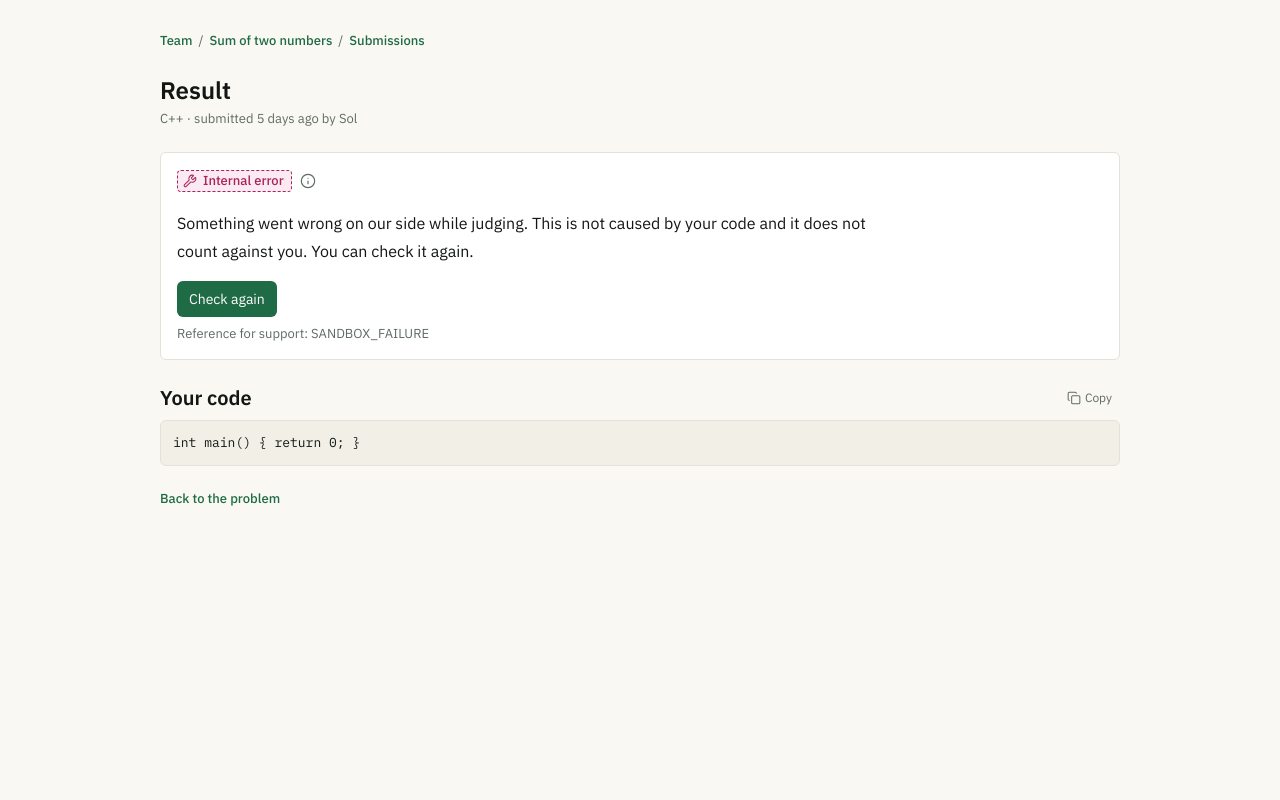
Test: the result of a submission (GRD-49) › a system error › shows why when checking again fails
The width and height of the screenshot is (1280, 800).
Click the button "Check again" at (227, 299), box [177,281,277,317]
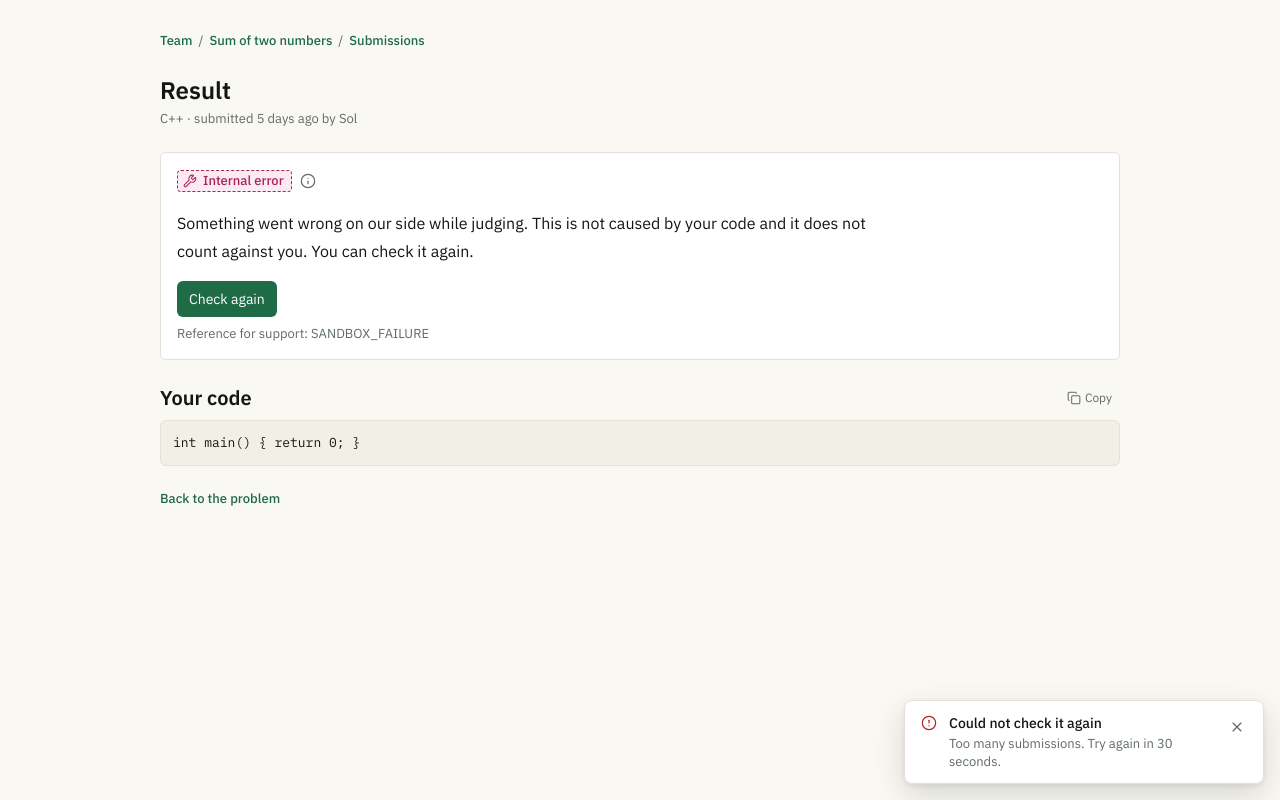
Expected: the text "Too many submissions. Try again in 30 seconds." is shown, [949,735,1211,771]
